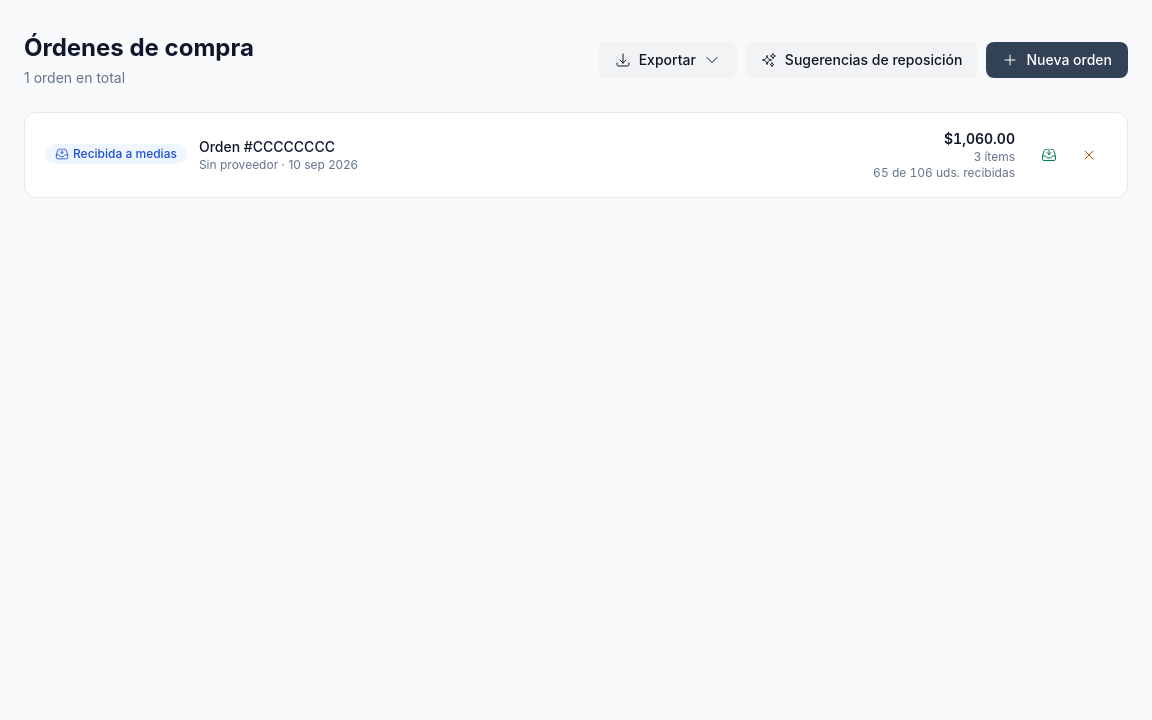
it: PurchaseOrdersPage — recepción parcial (T5-04) › El diálogo de recepción › sin ninguna cantidad no hay entrega que registrar
Click the button named "Recibir mercancía de la orden #CCCCCCCC": (1049,155) [1031,137,1067,173]
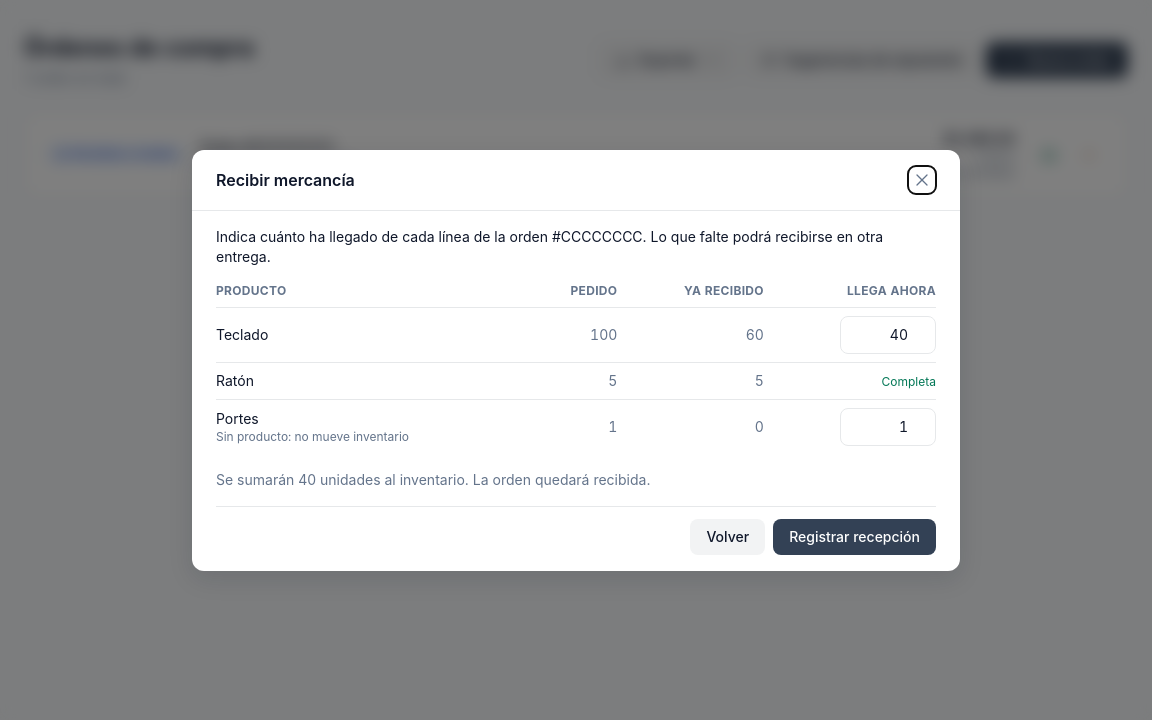
Clear the number field named "Llega ahora de Teclado": (888,334) [840,316,936,354]
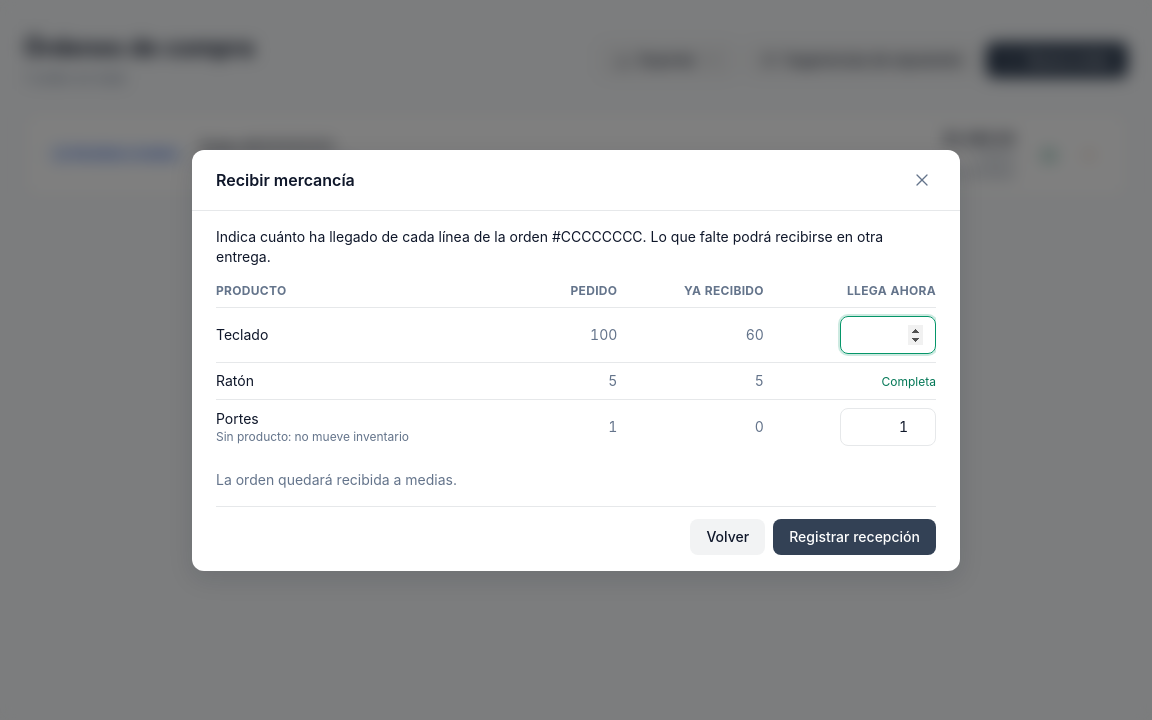
Clear the number field named "Llega ahora de Portes": (888,426) [840,408,936,446]
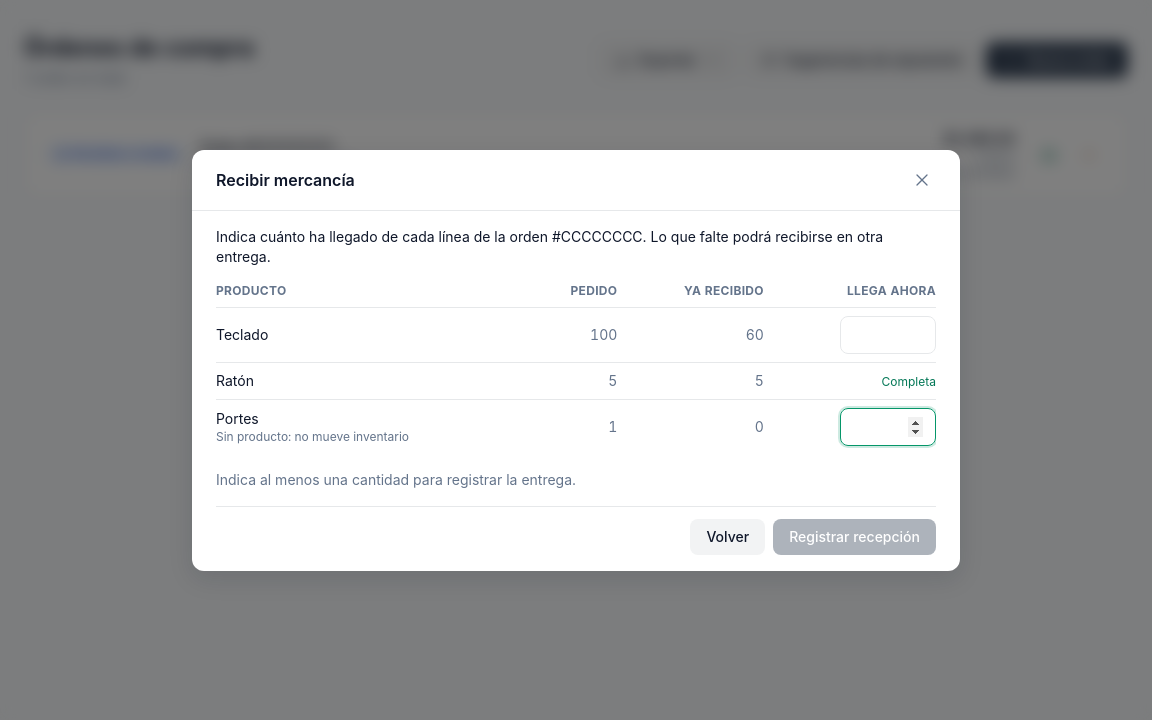
Check: the text "Indica al menos una cantidad para registrar la entrega." is shown, box [216,470,576,488]
Check: the button "Registrar recepción" is disabled, box [773,518,936,554]
